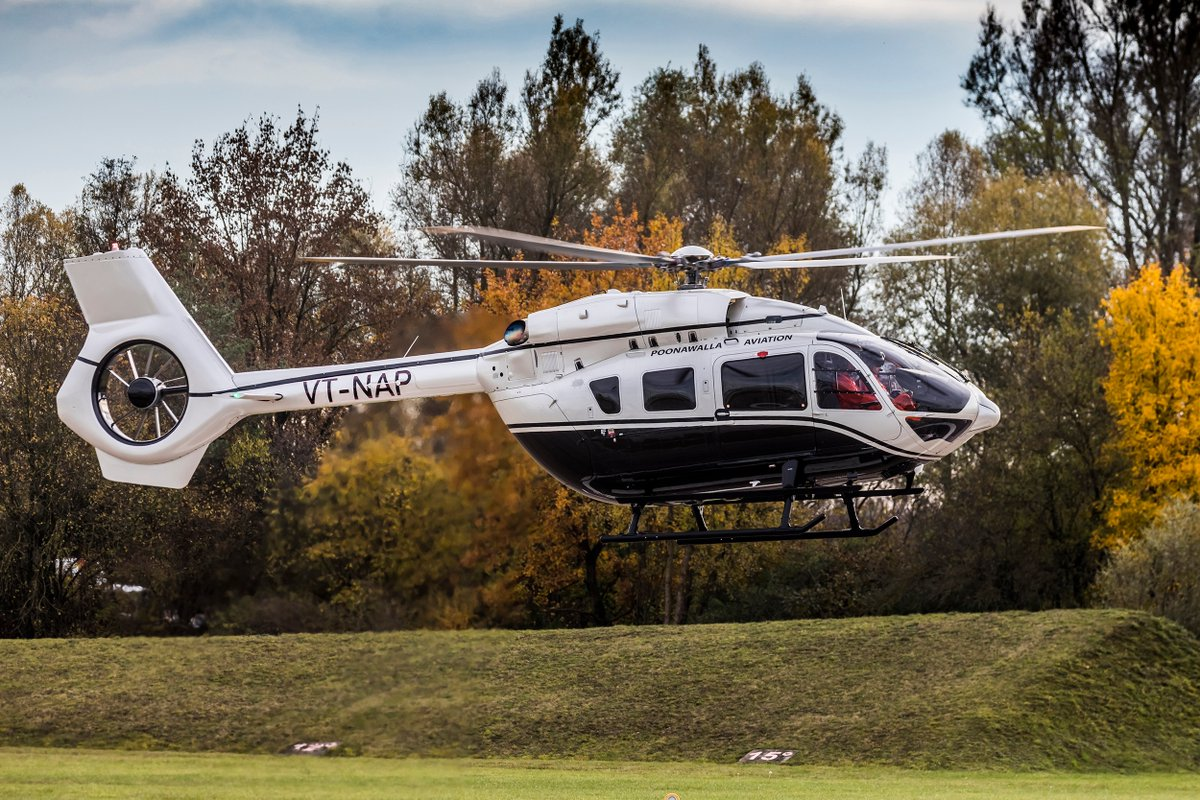Aeronef_commercial: (46, 222, 1119, 554)
